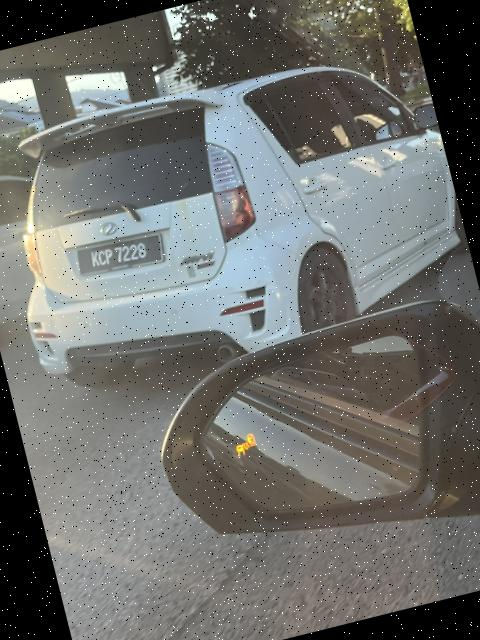License_Plate: (69, 224, 175, 291)
car: (1, 24, 480, 419)
